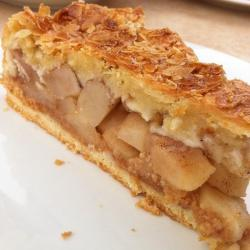apple_pie: (4, 6, 250, 241)
